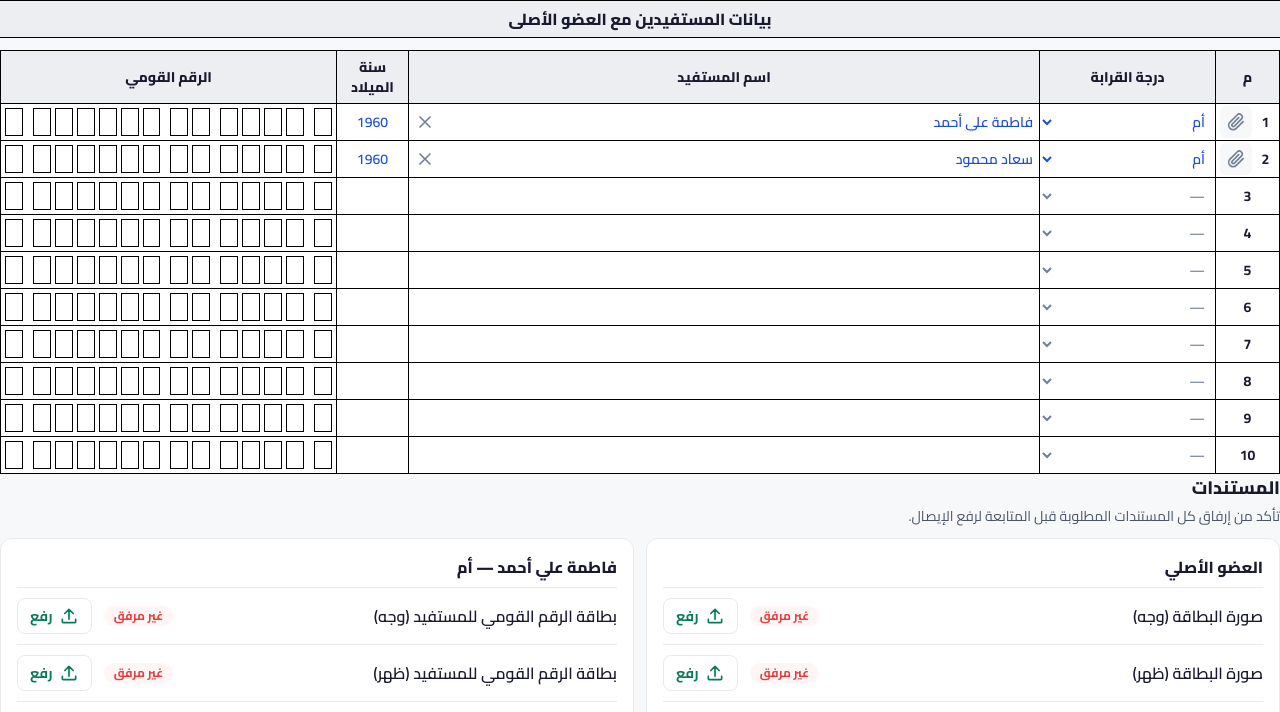
Test: member requirements follow beneficiary saves (MOTHER → member birth certificate) › keeps the requirement while another active mother remains
Step 1. Click the button named "مسح بيانات المستفيد رقم 1" → point(425, 122), box [409, 106, 441, 138]
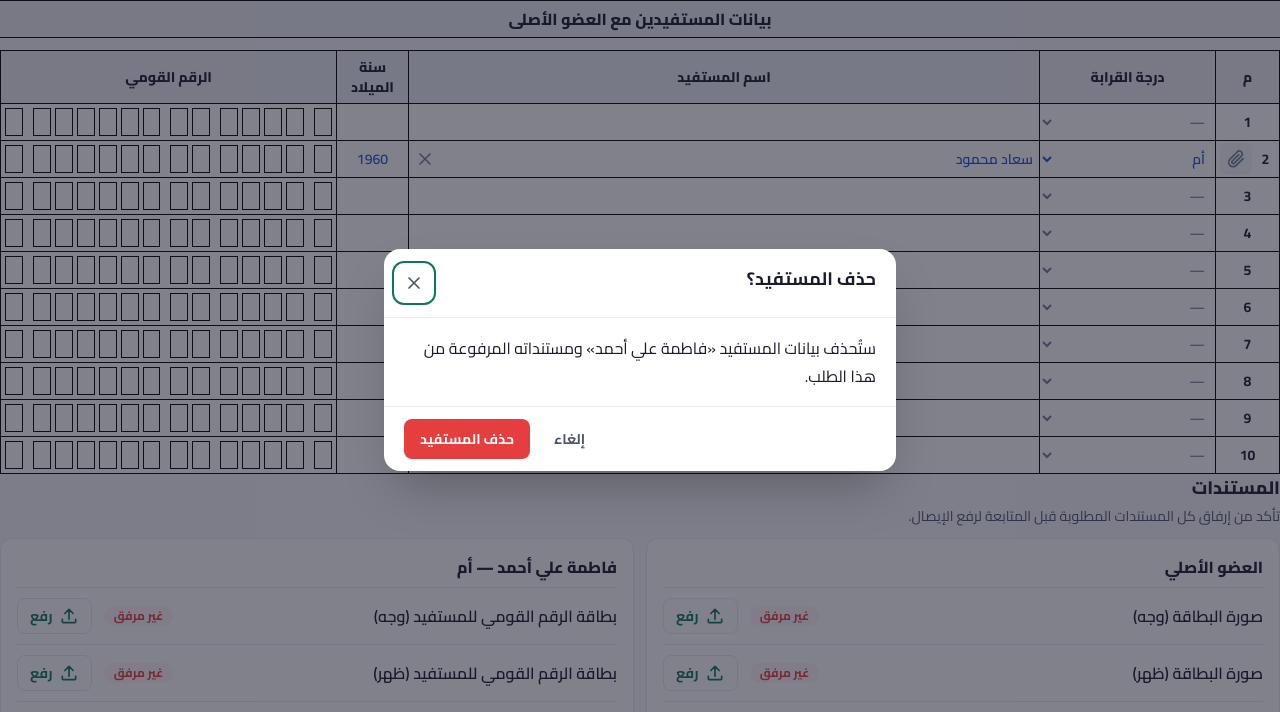
Step 2. Click the button "حذف المستفيد" → point(467, 439), box [404, 419, 530, 459]
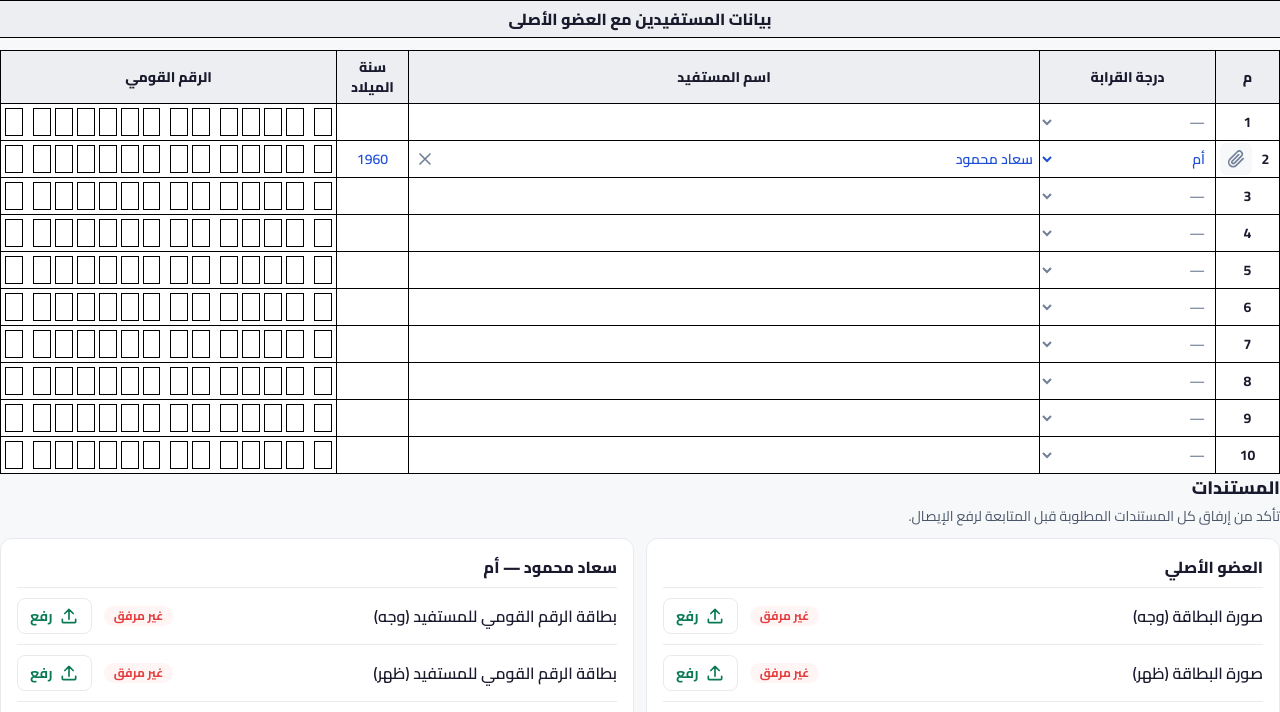
Expected: the heading "فاطمة علي أحمد — أم" is gone
